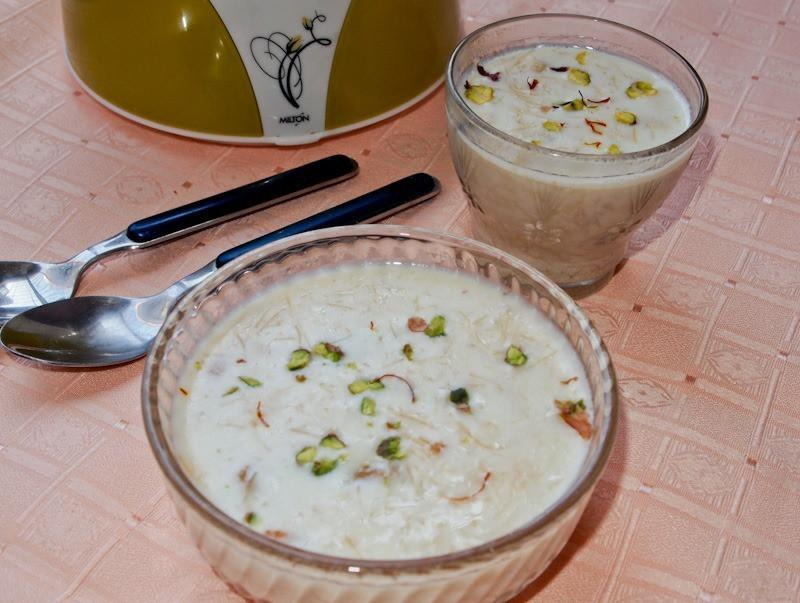Kheer: (185, 277, 588, 603), (452, 44, 694, 251)
